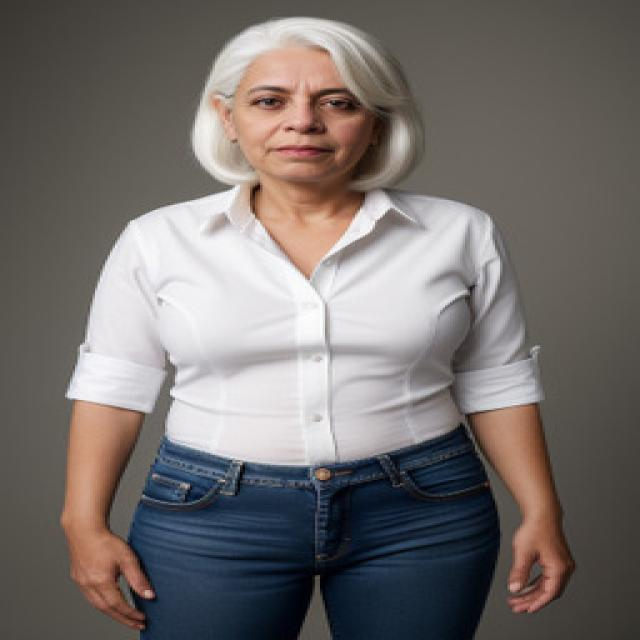Ai human 2: (62, 6, 583, 640)
